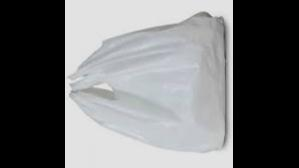Plastic: (68, 8, 232, 156)
